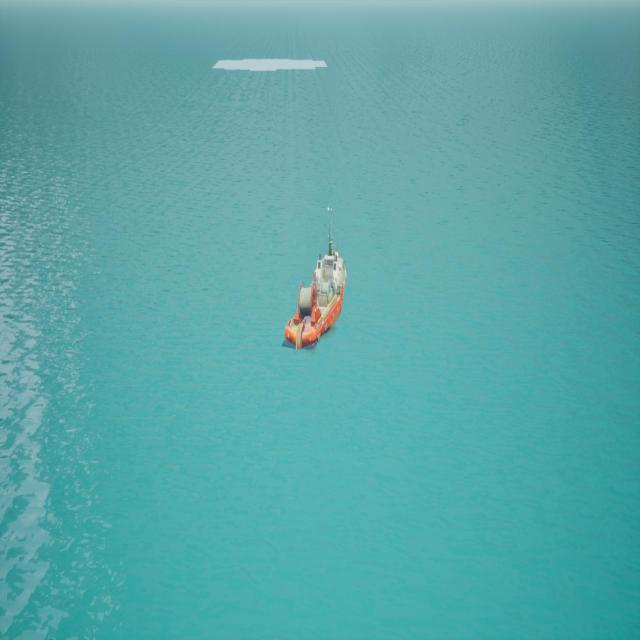tug boat: (290, 213, 348, 354)
